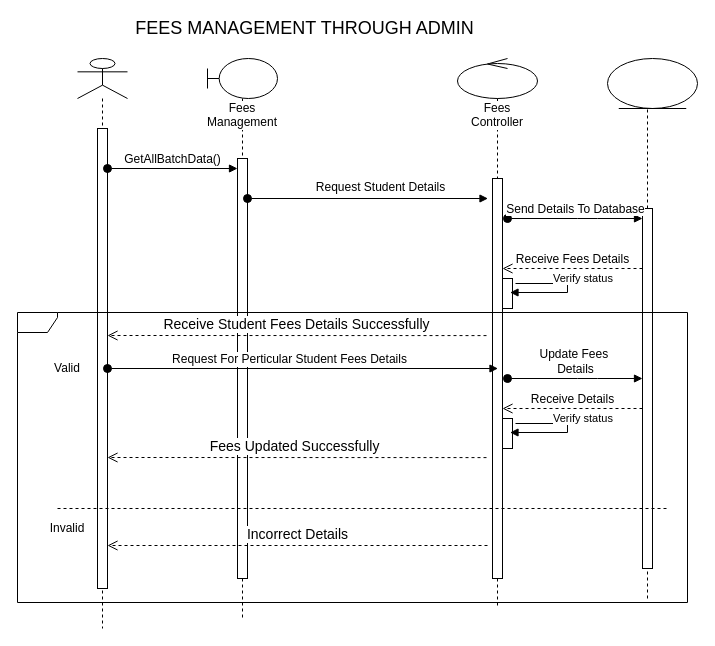
This 715x646 diagram has some shape labels left out. The centre of each missing label's shape, as x and y in pixels:
"Alt" goes at [352,457].
"Student database" goes at [652,83].
